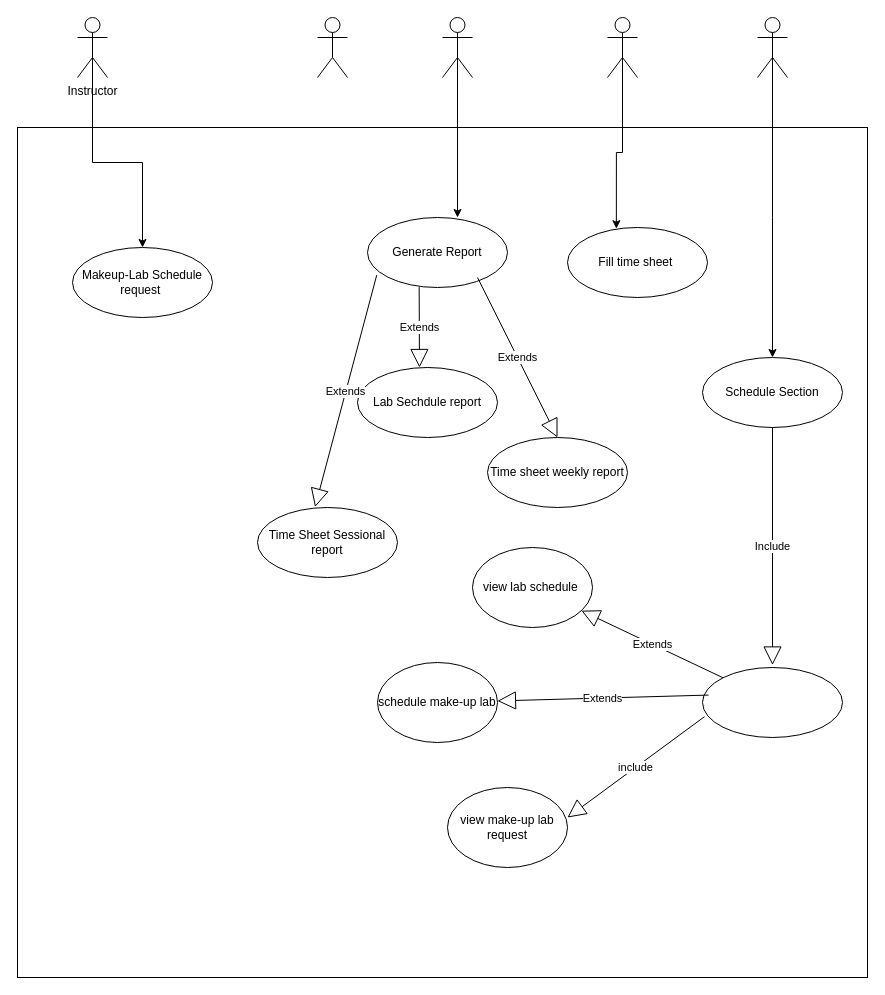
Some shapes in this 885 by 995 pixel diagram are drawn without their labels. Here are the shapes that lost their labels. From the top down, the centre of each, then its label:
pixel 332 47: TA
pixel 457 47: HOD
pixel 622 47: Attendent
pixel 772 47: Acdemic officer
pixel 772 702: Schedule Lab
